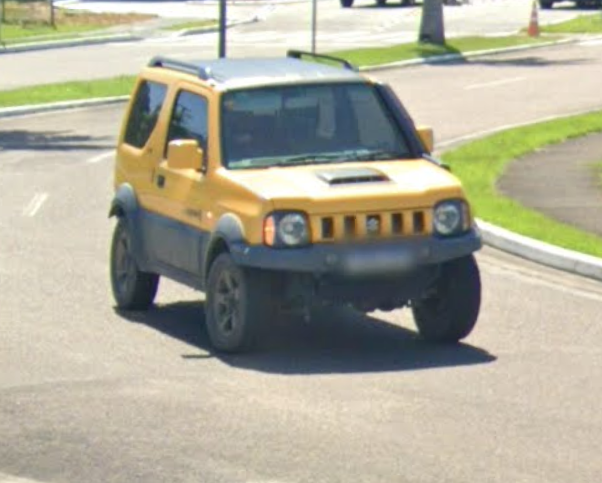car: (103, 48, 488, 358)
